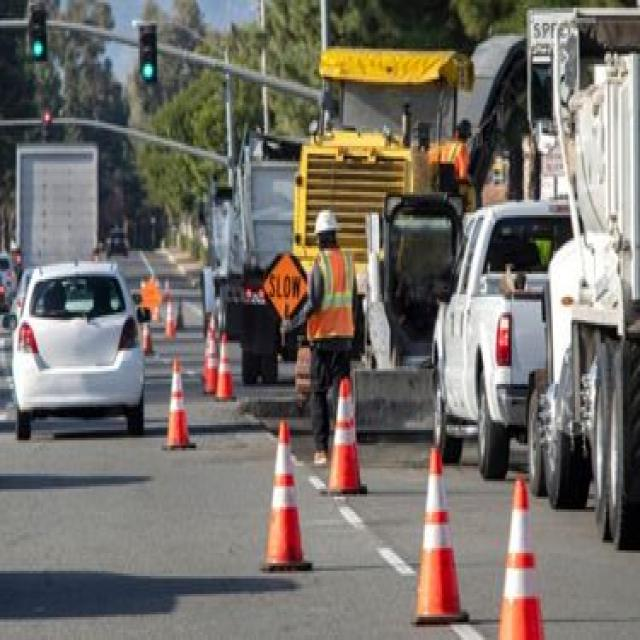cone: (492, 467, 552, 640), (255, 412, 319, 574), (414, 430, 466, 623), (322, 374, 377, 501), (155, 359, 200, 452), (211, 329, 241, 407), (160, 302, 180, 341), (142, 320, 154, 354)
